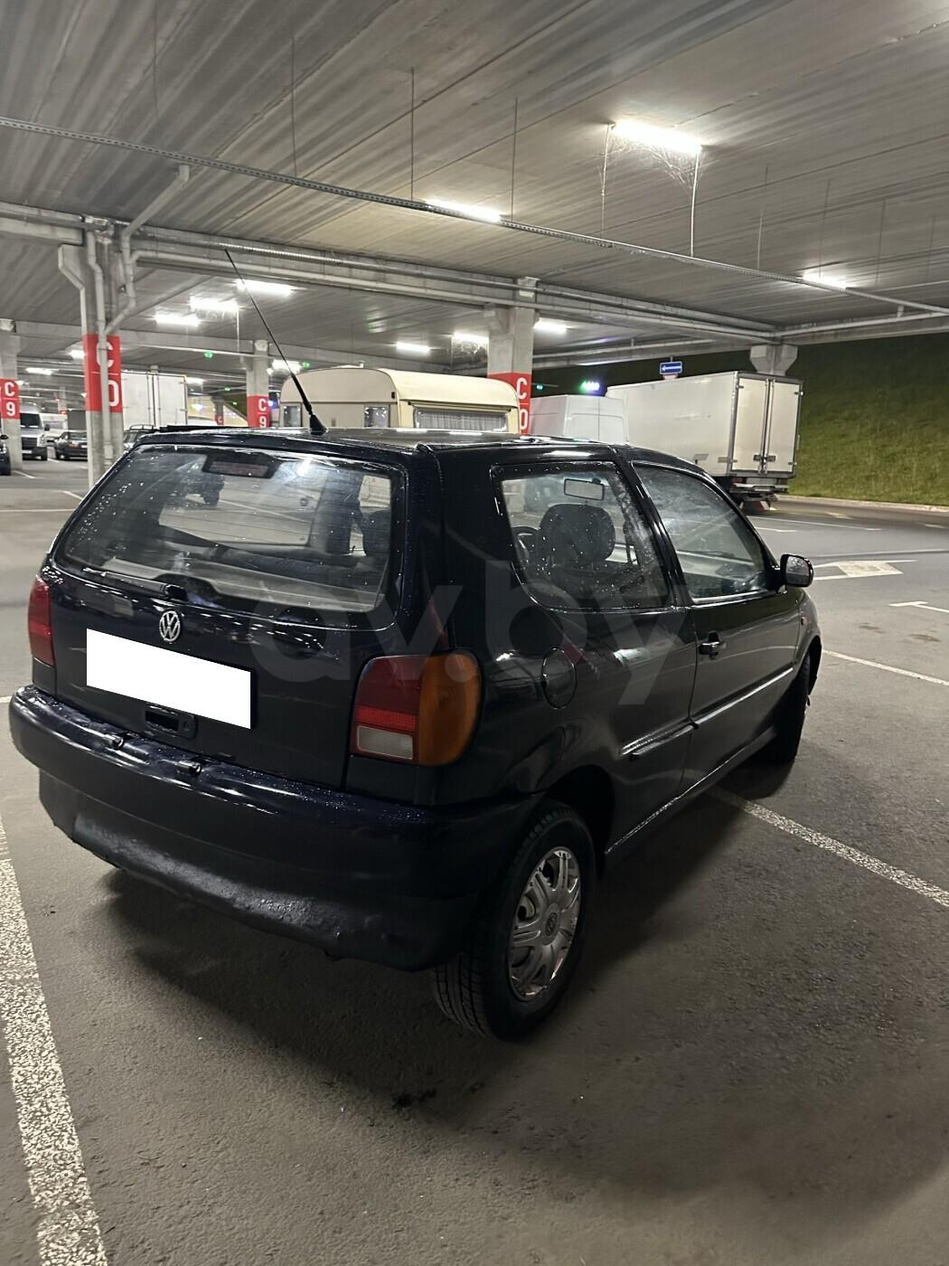Polo_1994-2002: (9, 412, 822, 1025)
